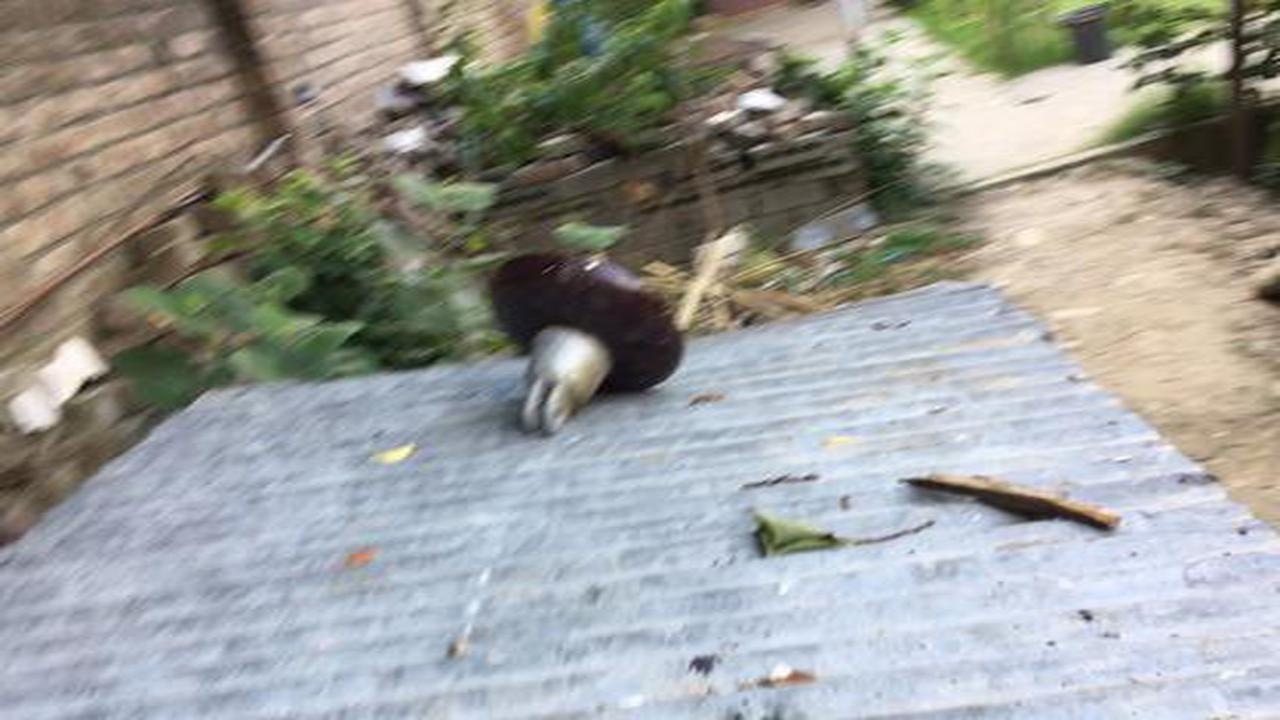insulator_disc: (483, 246, 691, 440)
